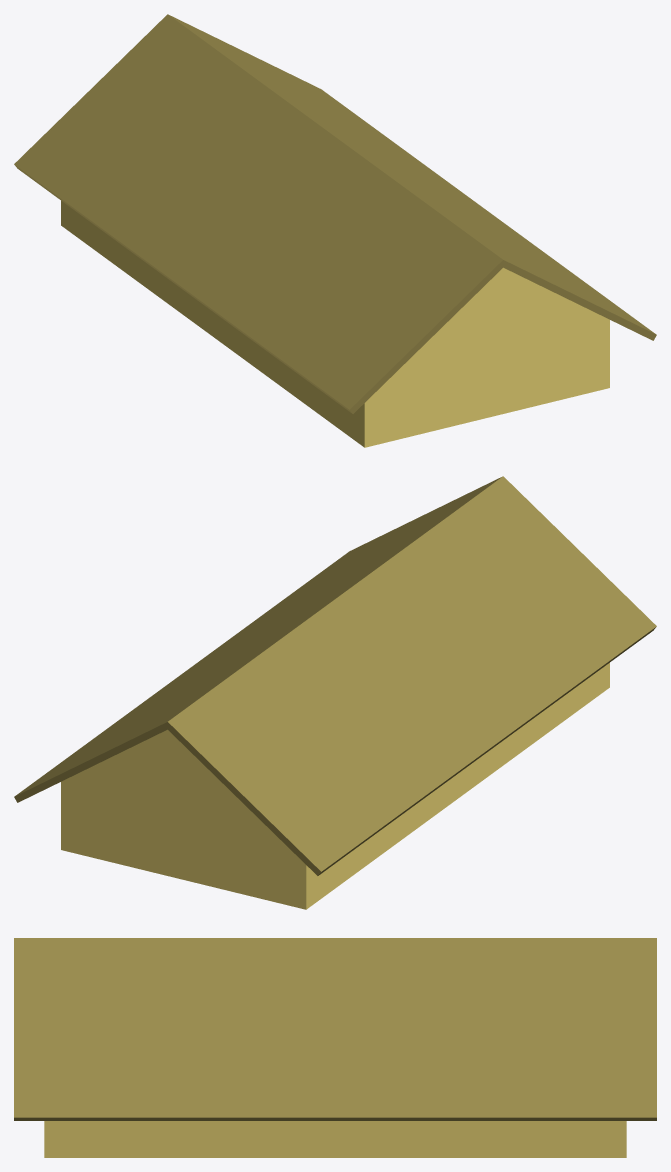
The model's file is result.glb.
The picture shows the model from 3 angles, top to bottom: view 1: azimuth 30°, elevation 25°; view 2: azimuth 150°, elevation 25°; view 3: azimuth 270°, elevation 25°; orthographic projection. The views are drawn at different scales.
Visible parts, largest first — view 1: e8e59987-ac08-4d6a-aef1-aaba68ebd254__undefined (×2), e406beb0-77ed-4d3b-96e8-0cb65d9037bf__undefined; view 2: e8e59987-ac08-4d6a-aef1-aaba68ebd254__undefined (×2), e406beb0-77ed-4d3b-96e8-0cb65d9037bf__undefined; view 3: e8e59987-ac08-4d6a-aef1-aaba68ebd254__undefined, e406beb0-77ed-4d3b-96e8-0cb65d9037bf__undefined.
Part boxes in pixels (x1,y1,x2,y2): e8e59987-ac08-4d6a-aef1-aaba68ebd254__undefined (×2): (14,14,656,413); e406beb0-77ed-4d3b-96e8-0cb65d9037bf__undefined: (61,201,609,447); e8e59987-ac08-4d6a-aef1-aaba68ebd254__undefined (×2): (14,476,656,875); e406beb0-77ed-4d3b-96e8-0cb65d9037bf__undefined: (61,663,609,909); e8e59987-ac08-4d6a-aef1-aaba68ebd254__undefined: (14,938,656,1120); e406beb0-77ed-4d3b-96e8-0cb65d9037bf__undefined: (44,1121,626,1157).
Size of the model in its own units: 1251 by 660 by 2365.
